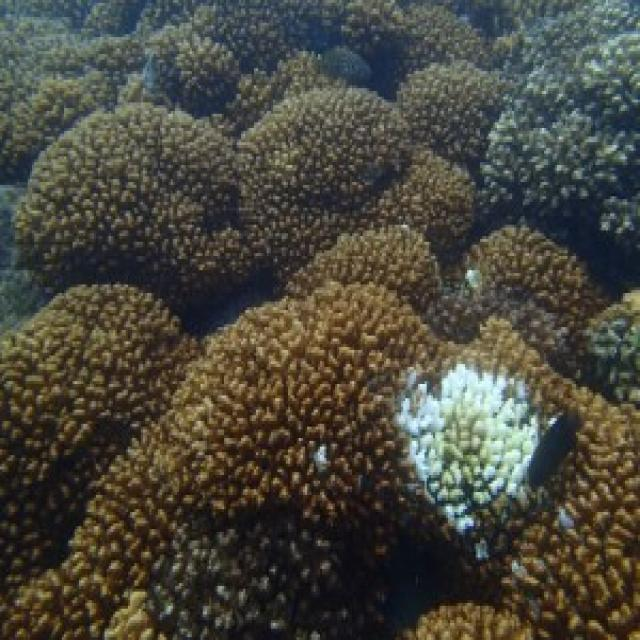Bleached: (494, 1, 640, 233), (397, 365, 544, 532)
Healthy: (1, 286, 640, 640), (1, 286, 201, 576), (20, 103, 247, 309), (237, 84, 479, 276), (548, 371, 640, 640), (1, 1, 141, 177), (430, 228, 604, 364), (140, 1, 339, 101), (1, 66, 142, 175), (548, 367, 640, 529), (506, 531, 640, 640), (288, 220, 444, 309), (396, 58, 509, 170), (230, 47, 355, 136), (396, 6, 517, 79), (403, 605, 550, 640), (177, 35, 239, 100), (337, 1, 404, 60)
